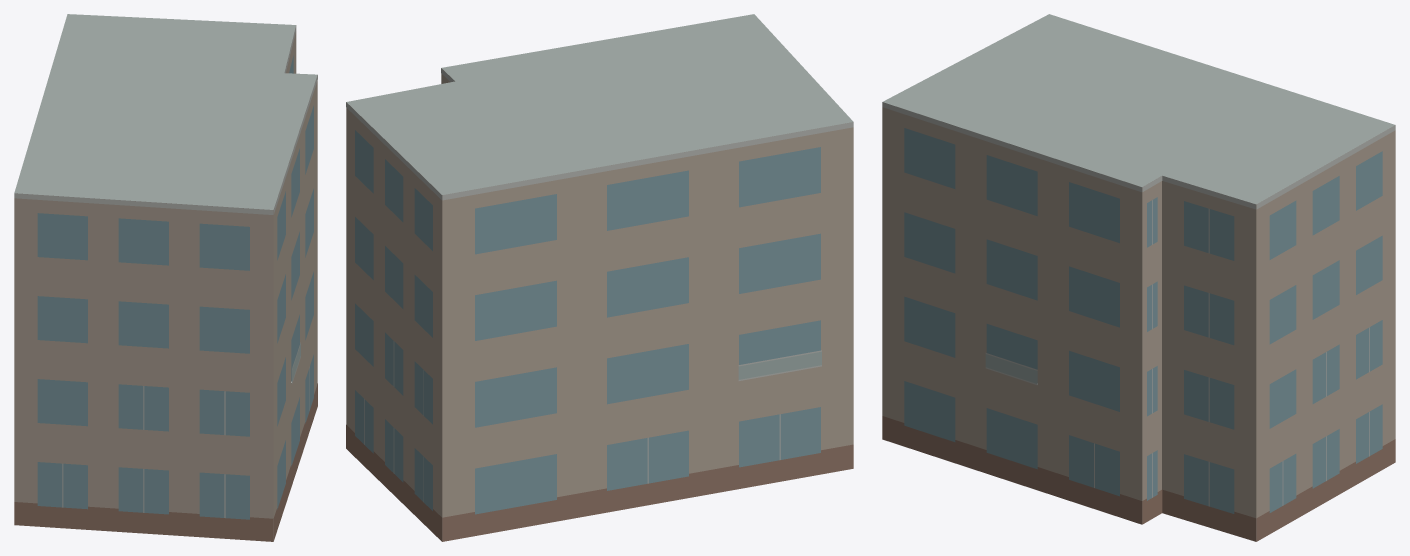
Rendered from survey-upis-32865660.glb.
3 renders of one model, left to right at view 1: azimuth 30°, elevation 25°; view 2: azimuth 150°, elevation 25°; view 3: azimuth 270°, elevation 25°, orthographic. The views are drawn at different scales.
Visible parts, largest first — view 1: survey-upis-32865660.tmp; view 2: survey-upis-32865660.tmp; view 3: survey-upis-32865660.tmp.
Boxes of the visible parts, x1,y1,x2,y2 form: survey-upis-32865660.tmp: (14, 14, 317, 541); survey-upis-32865660.tmp: (346, 14, 853, 541); survey-upis-32865660.tmp: (882, 14, 1395, 541).
Bounding box in the file's own units: 19.28 × 15.92 × 21.95.
